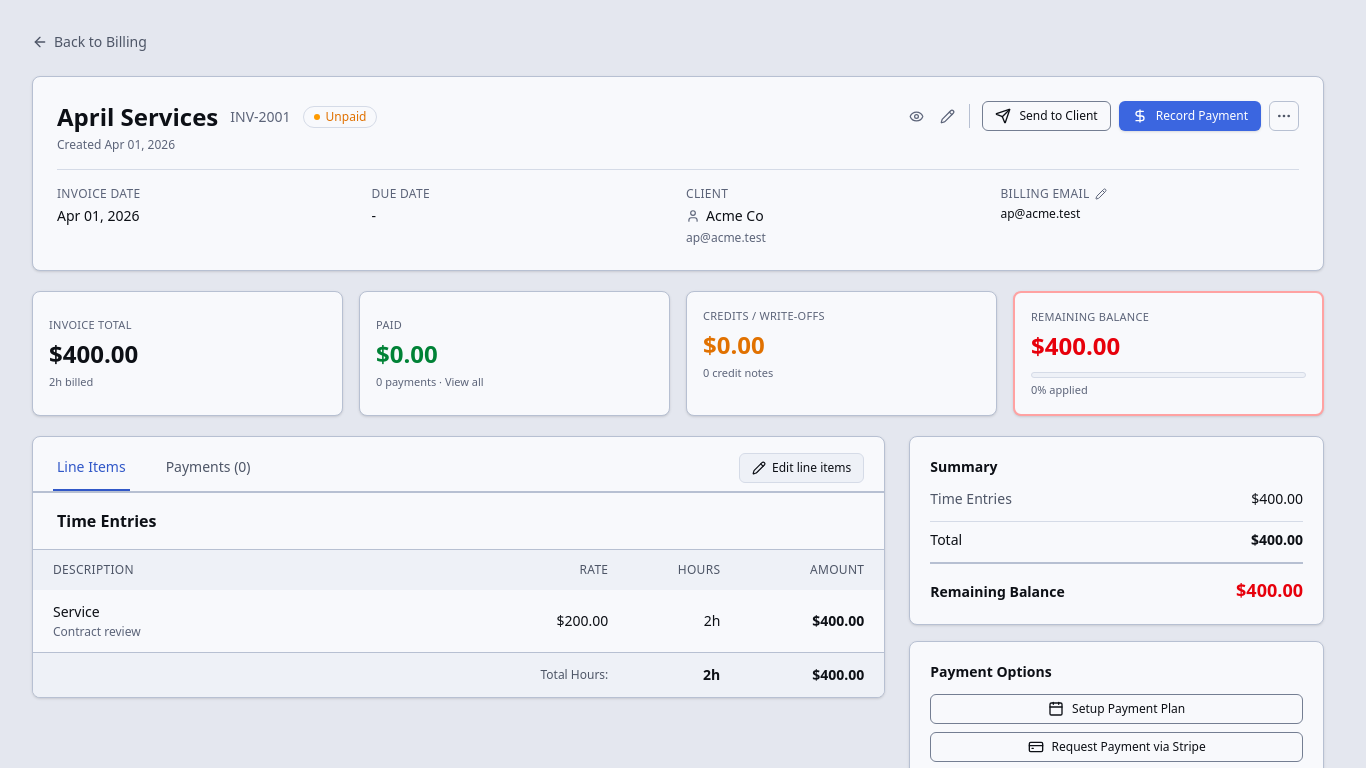
it: confirming the void › states what voiding does before anything is sent
Click the button named "More actions": (1284, 116) [1269,101,1299,131]
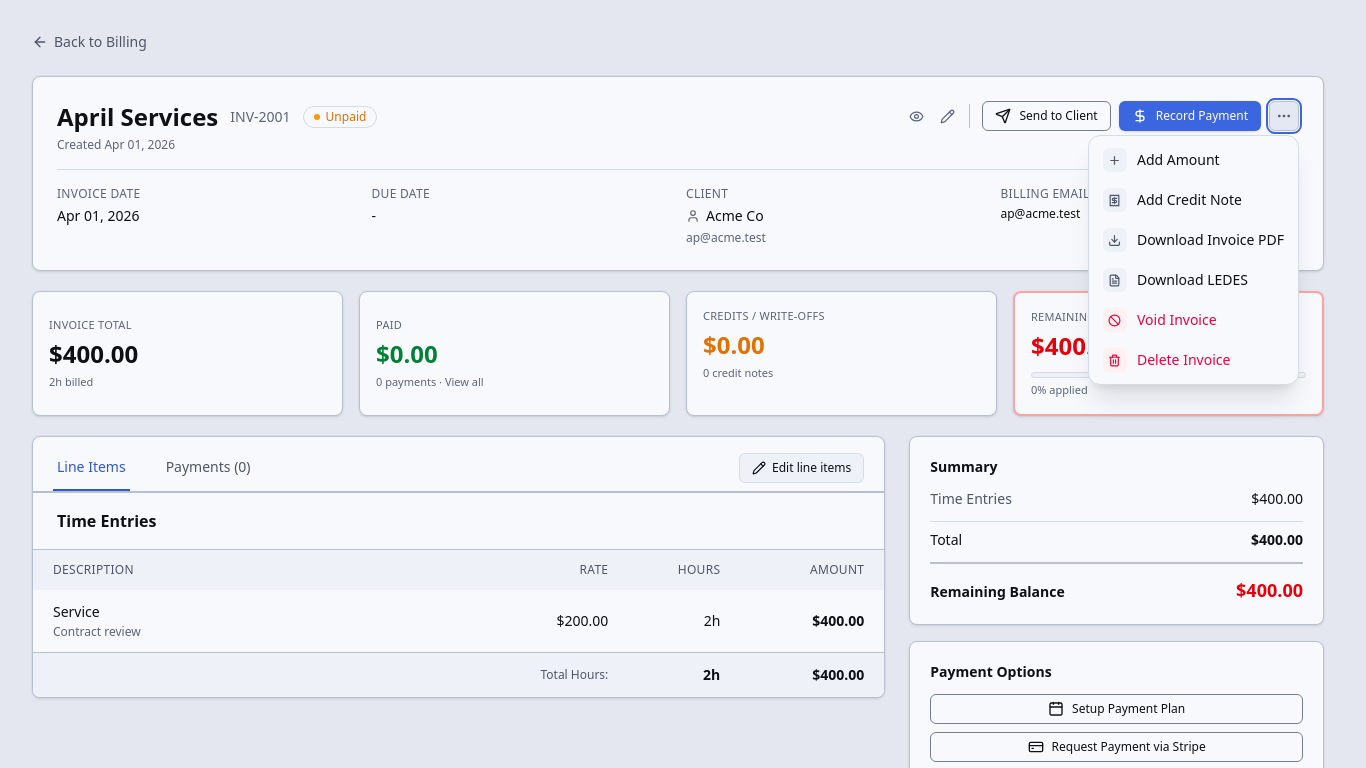
Click the button "Void Invoice": (1193, 320) [1093,300,1294,340]
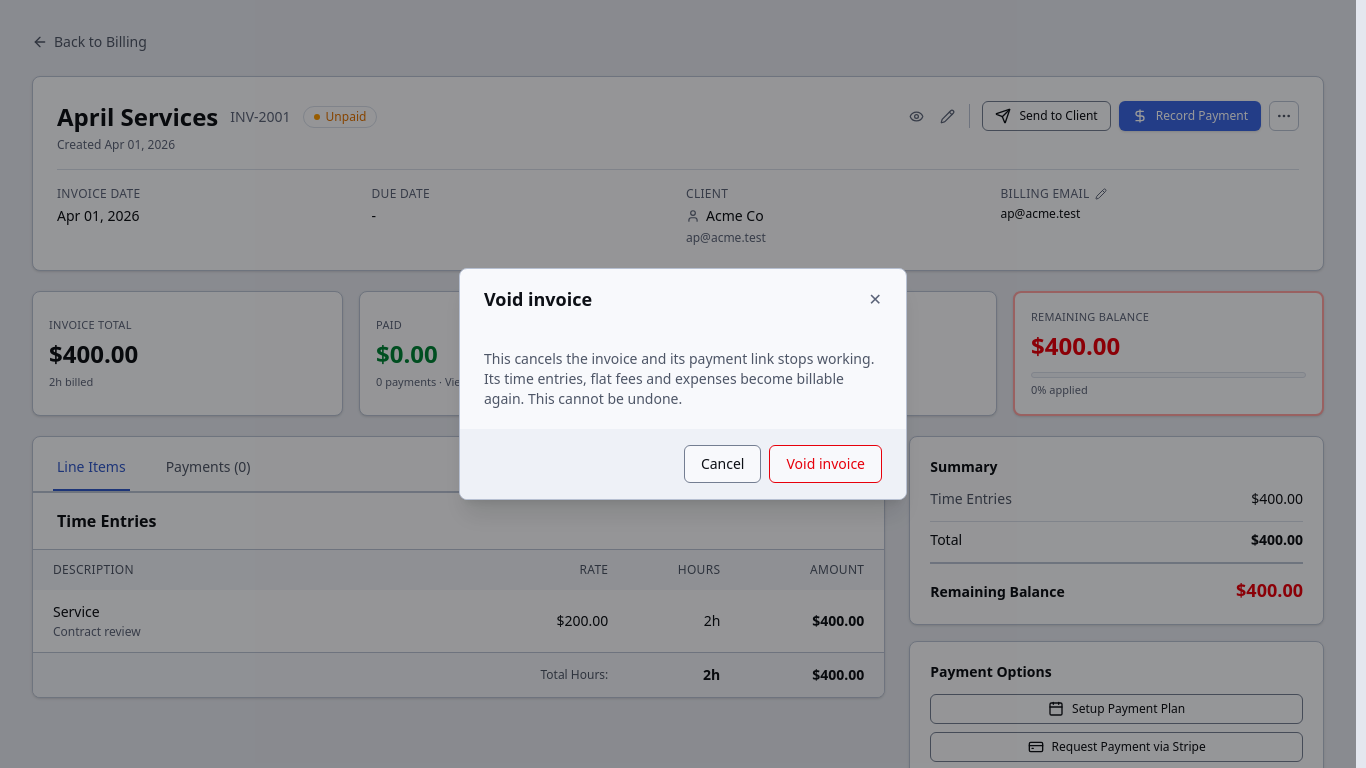
Now the text "This cancels the invoice and its payment link stops working. Its time entries, flat fees and expenses become billable ag" is shown, box [484,349,874,408]
